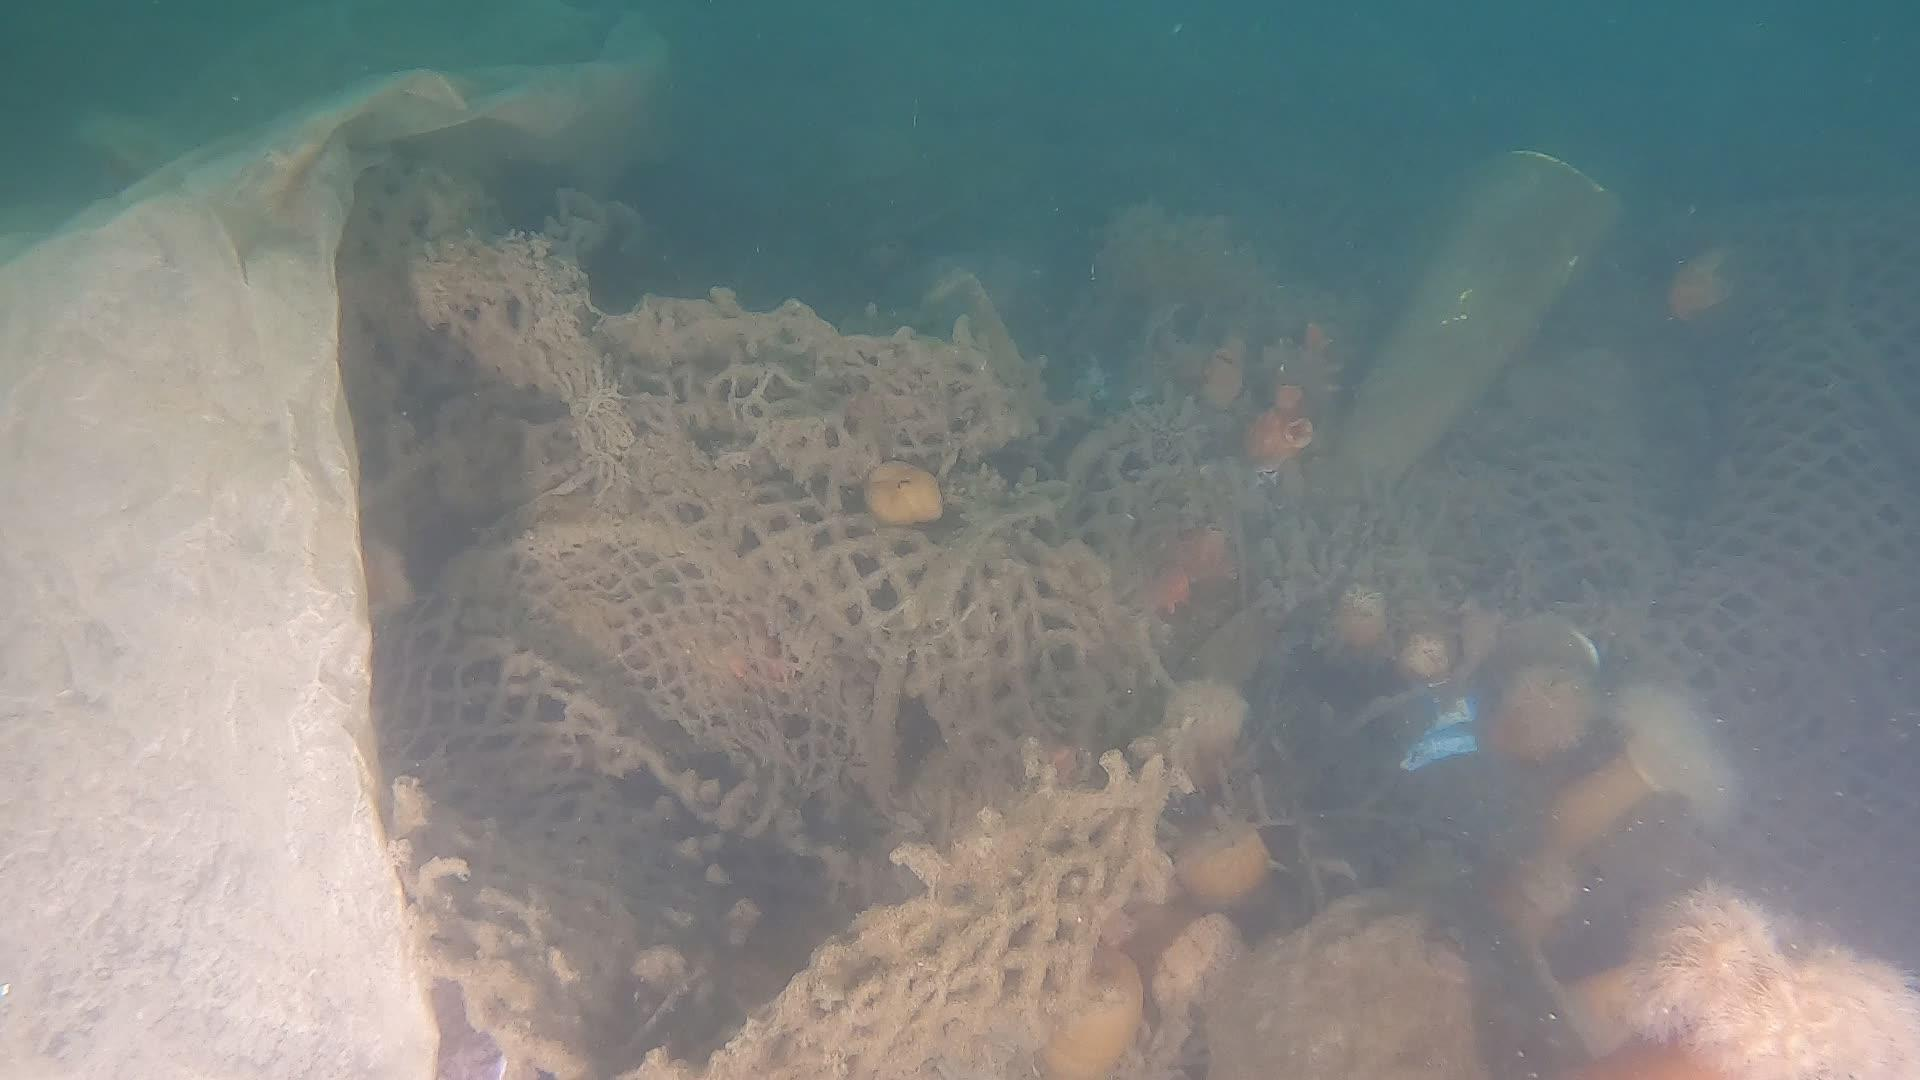fish net: (332, 112, 1920, 1080)
